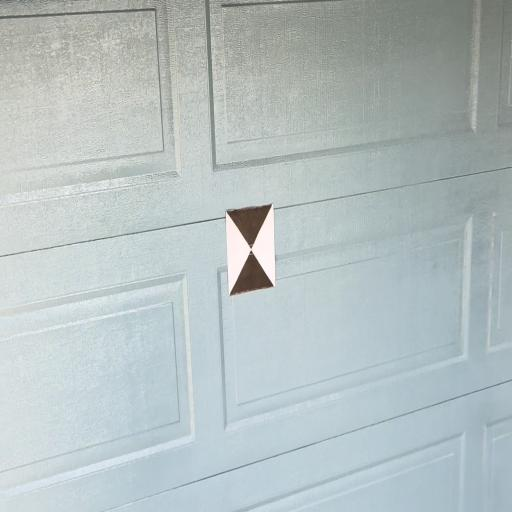target: (226, 205, 276, 294)
